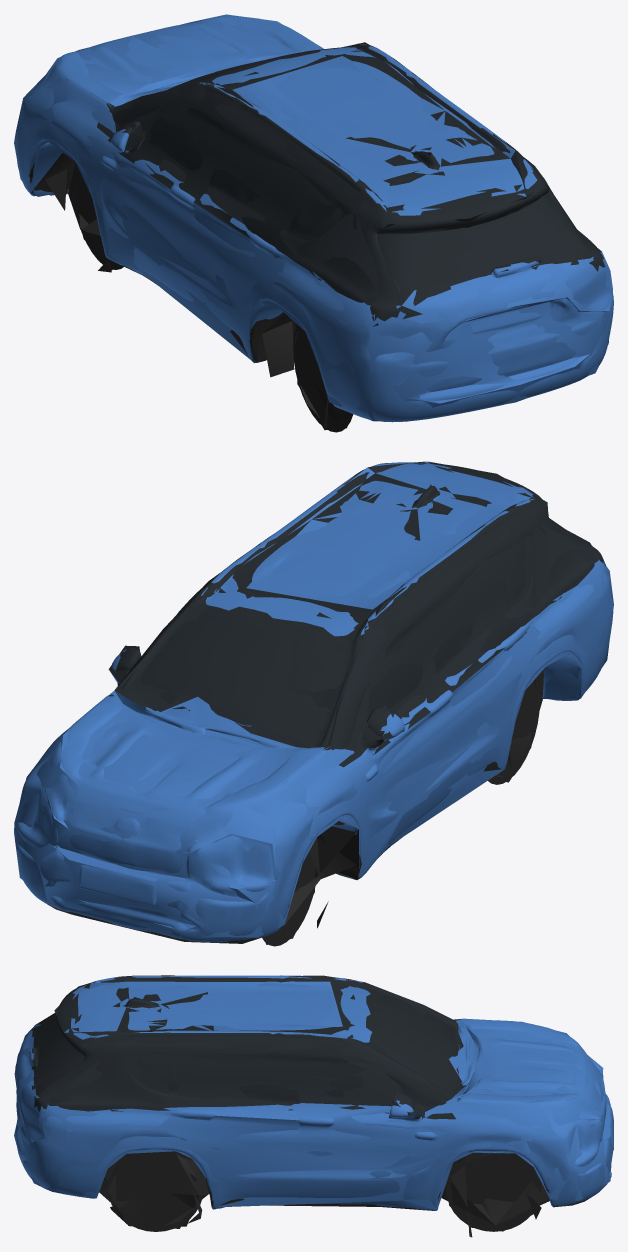
File: mitsubishi-outlander.glb
3 renders of one model, top to bottom at view 1: azimuth 30°, elevation 25°; view 2: azimuth 150°, elevation 25°; view 3: azimuth 270°, elevation 25°, orthographic. The views are drawn at different scales.
Visible parts, largest first — view 1: body, far; view 2: body, far; view 3: body, far.
Part boxes in pixels (box(x1,y1,x2,y2)): body: box(15, 15, 613, 432); far: box(14, 14, 612, 430); body: box(15, 462, 613, 946); far: box(14, 461, 613, 944); body: box(15, 975, 613, 1237); far: box(14, 975, 613, 1236).
Size of the model in its own units: 1.99 by 1.77 by 4.74.
